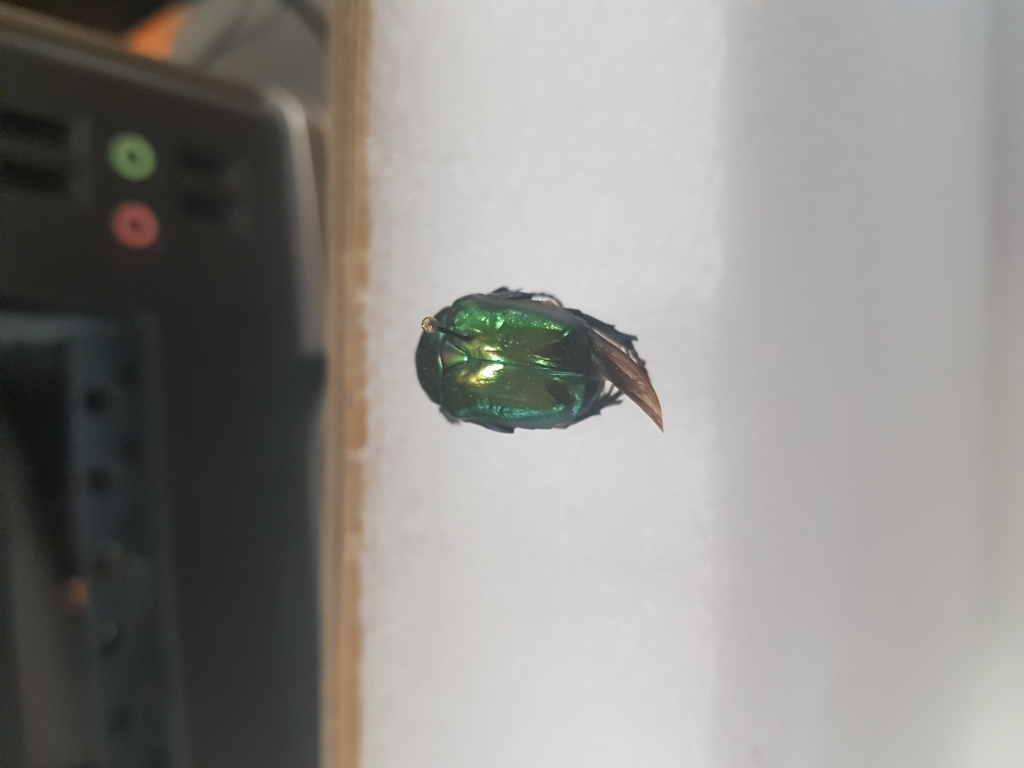Protaetia_angustata_angustata: (409, 279, 672, 445)
